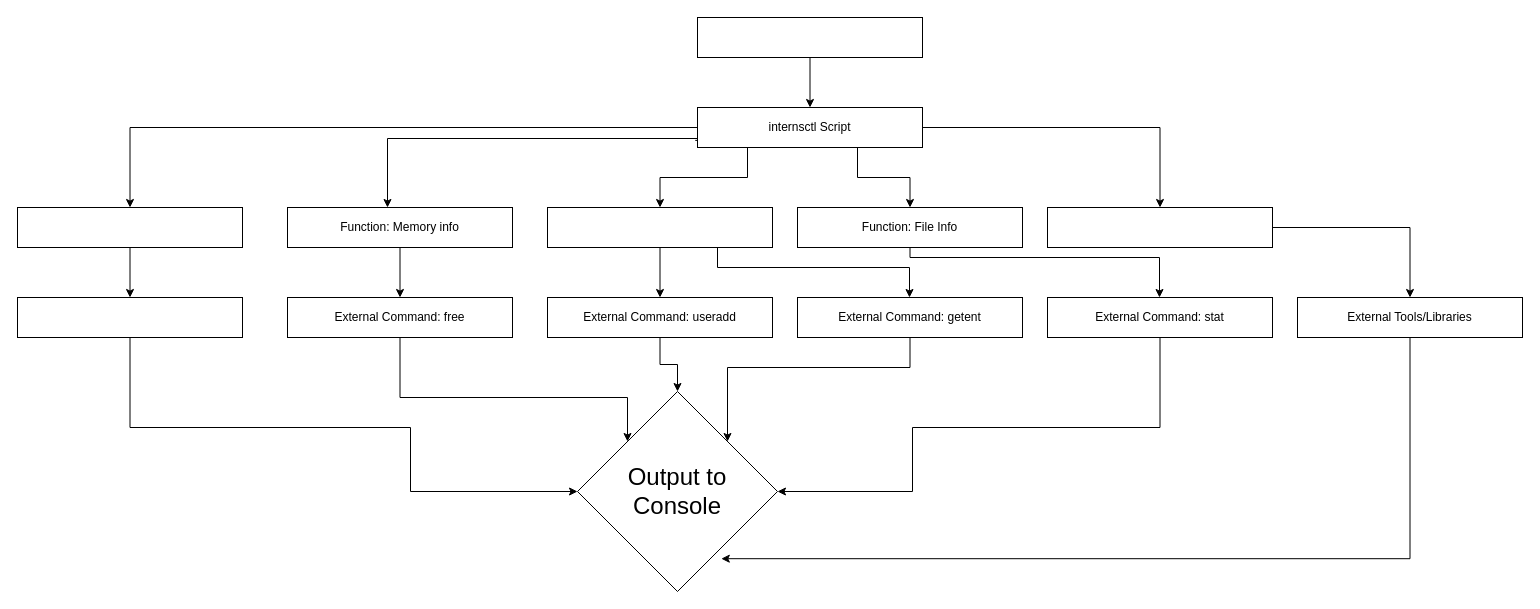
The diagram is 1540 pixels wide and 609 high, and some of its shapes have lost their labels. Each missing label, with the box of its shape:
Command-line Interface: (696, 16, 922, 58)
Dependencies: (1046, 206, 1272, 248)
External Command: lscpu: (16, 296, 242, 338)
Function: CPU info: (16, 206, 242, 248)
Function: User Management: (546, 206, 772, 248)
